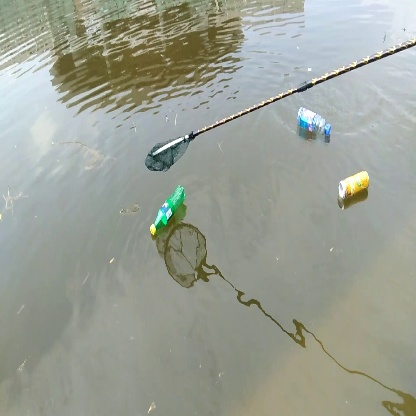bottle: (148, 185, 189, 238), (296, 105, 334, 140), (336, 168, 371, 202)
